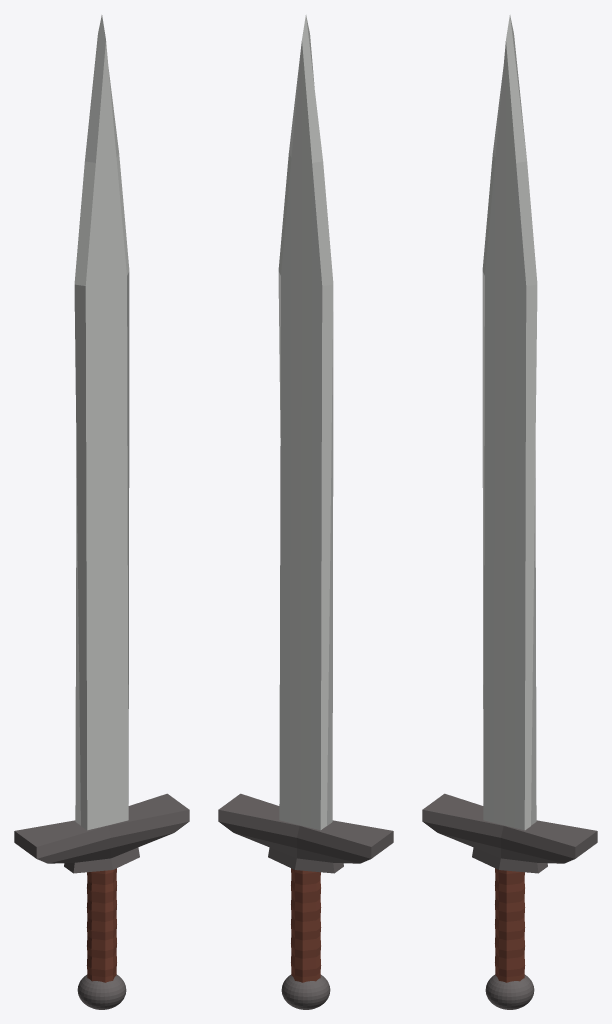
The model's file is sabie.fbx.
3 views of the same model, side by side, from view 1: azimuth 30°, elevation 25°; view 2: azimuth 150°, elevation 25°; view 3: azimuth 330°, elevation 25° (orthographic).
Visible parts, largest first — view 1: Cube.002, Cube.001, Cube, Sphere; view 2: Cube.002, Cube.001, Cube, Sphere; view 3: Cube.002, Cube.001, Cube, Sphere.
Boxes of the visible parts, x1=… form: Cube.002: x1=74, y1=15, x2=129, y2=830; Cube.001: x1=14, y1=793, x2=189, y2=873; Cube: x1=86, y1=868, x2=116, y2=982; Sphere: x1=77, y1=974, x2=126, y2=1009; Cube.002: x1=278, y1=15, x2=333, y2=830; Cube.001: x1=218, y1=793, x2=393, y2=873; Cube: x1=291, y1=868, x2=321, y2=982; Sphere: x1=281, y1=974, x2=330, y2=1009; Cube.002: x1=482, y1=15, x2=537, y2=830; Cube.001: x1=422, y1=793, x2=597, y2=873; Cube: x1=495, y1=868, x2=525, y2=982; Sphere: x1=485, y1=974, x2=534, y2=1009.
Size of the model in its own units: 86.92 by 539 by 24.
